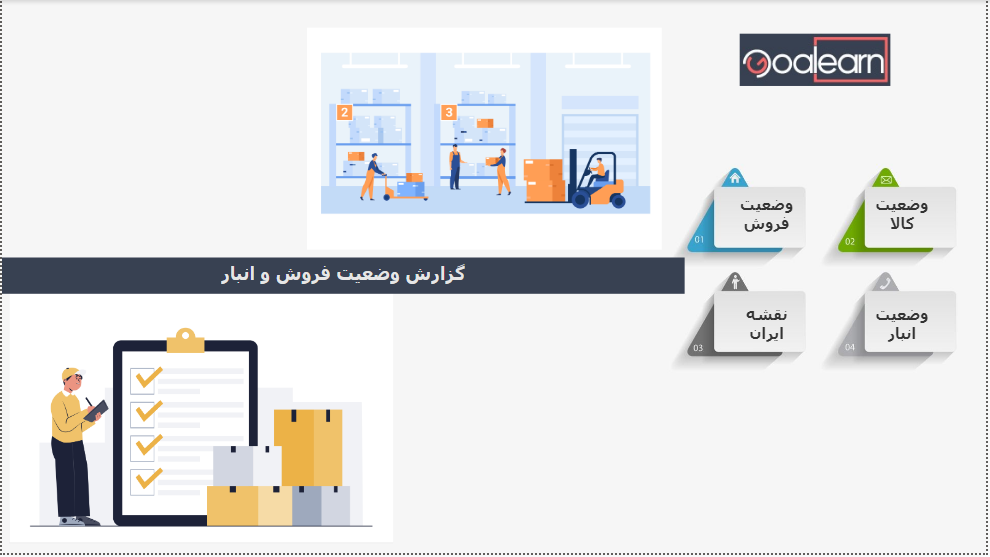

This screenshot's page, from the dashboard's own definition file:
{"tool":"powerbi","page":{"name":"Main Page","canvas":[1280,720],"ordinal":0},"visuals":[{"type":"image","box":[925.2,39,265,78],"z":0},{"type":"image","box":[803.3,144.7,461.8,442.3],"z":1000},{"type":"pageNavigator","box":[887.8,187,391.9,325.2],"z":2000},{"type":"image","box":[391.9,0,471.5,361],"z":3000},{"type":"image","box":[5.7,361.2,448.2,315.8],"z":4000},{"type":"image","box":[5.7,359.3,508.7,361.2],"z":5000},{"type":"textbox","box":[0,335,887.8,47.2],"z":6000}]}

Visuals, with their boxes in screenshot pixels (x1, y1, x2, y2), scaled from the page's 1280x720 canvas onto the 990x557 screenshot:
image: Rect(716, 30, 921, 91)
image: Rect(621, 112, 978, 454)
pageNavigator: Rect(687, 145, 989, 396)
image: Rect(303, 0, 668, 279)
image: Rect(4, 279, 351, 524)
image: Rect(4, 278, 398, 556)
textbox: Rect(0, 259, 687, 296)
